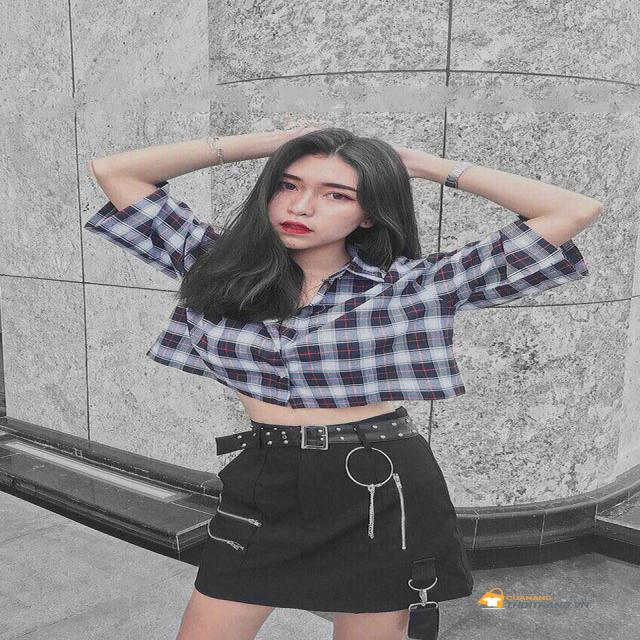clothes: (136, 205, 499, 616)
